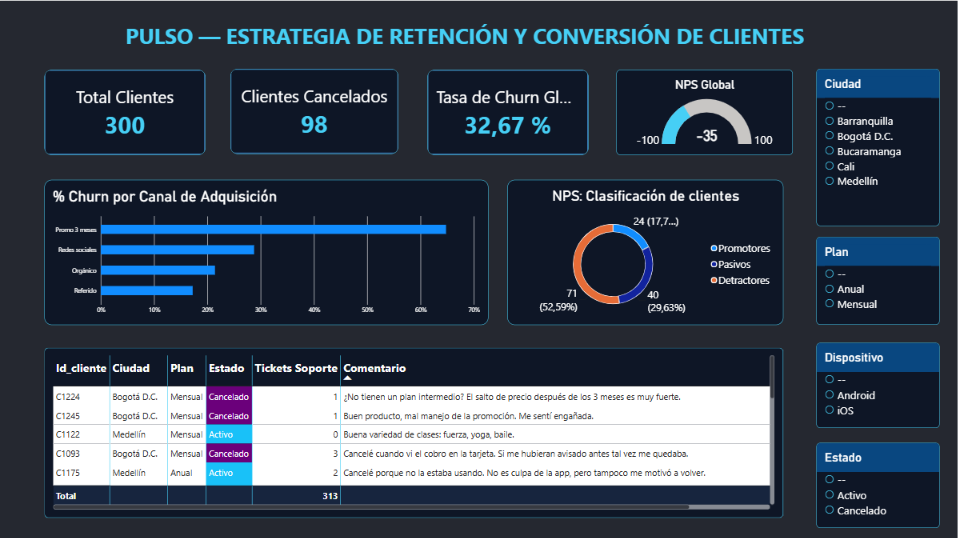

This screenshot's page, from the dashboard's own definition file:
{"tool":"powerbi","page":{"name":"Página 1","canvas":[1920,1080],"ordinal":0},"visuals":[{"type":"textbox","box":[368,40,1432,62],"z":0},{"type":"cardVisual","fields":{"Data":["_Medidas.Total Clientes"]},"box":[92,138,322,170],"z":1000},{"type":"clusteredBarChart","title":"% Churn por Canal de Adquisición","fields":{"Category":["clientes.canal_adquisicion"],"Y":["_Medidas.% Churn por Canal"]},"box":[92,358,888,290],"z":2000},{"type":"donutChart","title":"NPS: Clasificación de clientes  ","fields":{"Y":["_Medidas.Promotores","_Medidas.Pasivos","_Medidas.Detractores"]},"box":[1018,358,552,290],"z":3000},{"type":"gauge","fields":{"Y":["_Medidas.NPS Global"]},"box":[1236,138,352.5,170],"z":4000},{"type":"tableEx","fields":{"Values":["clientes.id_cliente","clientes.ciudad","clientes.plan","clientes.estado","Sum(clientes.tickets_soporte)","comentarios.comentario"]},"box":[92.4,694.2,1477.3,340.1],"z":5000},{"type":"listSlicer","title":"Ciudad","fields":{"Values":["clientes.ciudad"]},"box":[1636,136,246,314],"z":6000},{"type":"cardVisual","fields":{"Data":["_Medidas.Clientes Cancelados"]},"box":[464,136,336,170],"z":7000},{"type":"cardVisual","fields":{"Data":["_Medidas.Tasa de Churn"]},"box":[857.5,137.5,322,170],"z":8000},{"type":"listSlicer","title":"Plan","fields":{"Values":["clientes.plan"]},"box":[1636,472,246,176],"z":9000},{"type":"listSlicer","title":"Dispositivo","fields":{"Values":["clientes.dispositivo"]},"box":[1636.7,683.3,246,170],"z":10000},{"type":"image","box":[92.2,33.3,266.7,75.6],"z":11004},{"type":"listSlicer","title":"Estado ","fields":{"Values":["clientes.estado"]},"box":[1636.7,883.3,246,170],"z":11005}]}

Visuals, with their boxes in screenshot pixels (x1, y1, x2, y2), scaled from the page's 1920x1080 canvas onto the 958x538 screenshot:
textbox: region(184, 20, 898, 51)
cardVisual - _Medidas.Total Clientes: region(46, 69, 207, 153)
"% Churn por Canal de Adquisición" clusteredBarChart: region(46, 178, 489, 323)
"NPS: Clasificación de clientes  " donutChart: region(508, 178, 783, 323)
gauge - _Medidas.NPS Global: region(617, 69, 793, 153)
tableEx - clientes.id_cliente x clientes.ciudad: region(46, 346, 783, 515)
"Ciudad" listSlicer: region(816, 68, 939, 224)
cardVisual - _Medidas.Clientes Cancelados: region(232, 68, 399, 152)
cardVisual - _Medidas.Tasa de Churn: region(428, 68, 589, 153)
"Plan" listSlicer: region(816, 235, 939, 323)
"Dispositivo" listSlicer: region(817, 340, 939, 425)
image: region(46, 17, 179, 54)
"Estado " listSlicer: region(817, 440, 939, 525)
